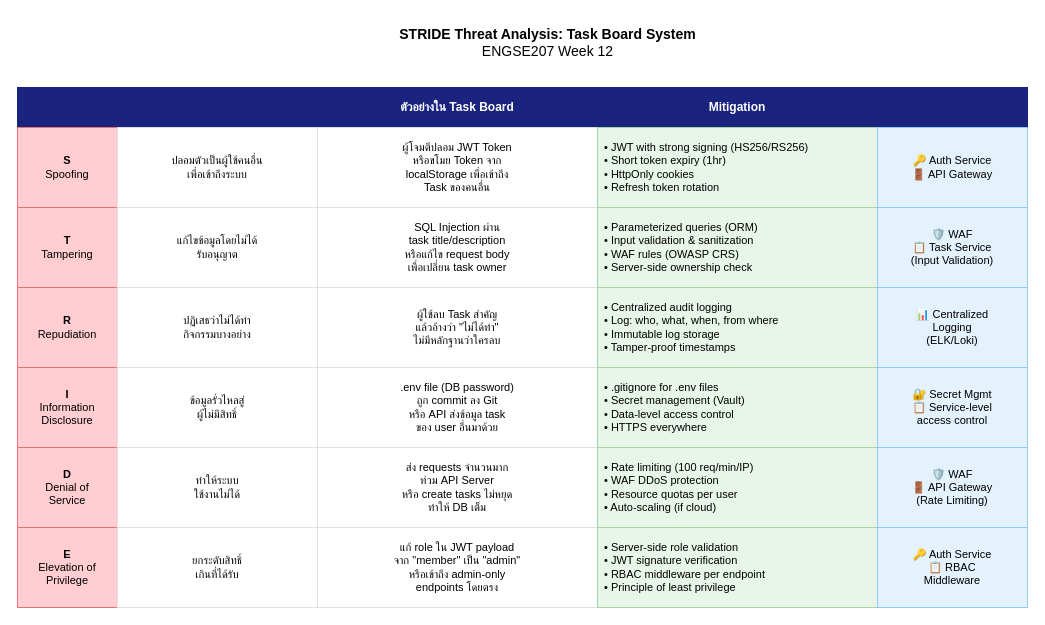
This 1045x625 diagram has some shape labels left out. The box of each missing label's shape, as (x1, y1, x2, y2) in pixels:
Component: (876, 86, 1028, 128)
STRIDE: (16, 86, 118, 128)
ภัยคุกคาม (Threat): (116, 86, 318, 128)
